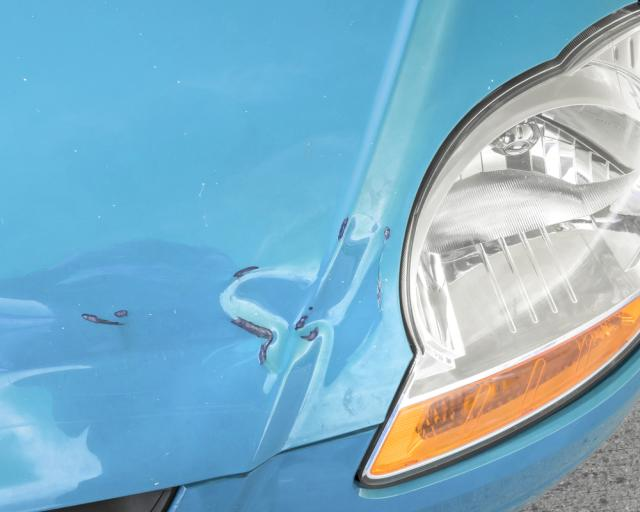dent: (0, 219, 382, 469)
